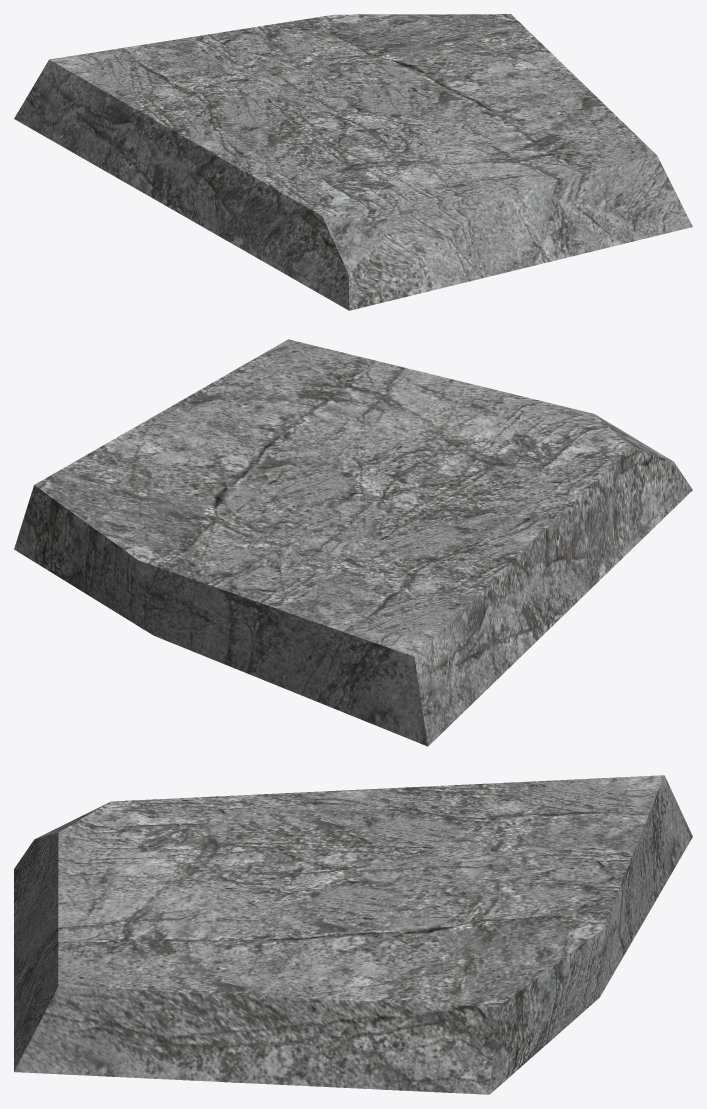
The model's file is materials_3_rubble_15.fbx.
3 views of the same model, one above another, from view 1: azimuth 30°, elevation 25°; view 2: azimuth 150°, elevation 25°; view 3: azimuth 270°, elevation 25° (orthographic). The views are drawn at different scales.
Visible parts, largest first — view 1: materials_3_rubble_15; view 2: materials_3_rubble_15; view 3: materials_3_rubble_15.
Part boxes in pixels (x1=…): materials_3_rubble_15: x1=14, y1=14, x2=692, y2=310; materials_3_rubble_15: x1=14, y1=339, x2=692, y2=746; materials_3_rubble_15: x1=14, y1=775, x2=692, y2=1094.
Bounding box in the file's own units: 85.56 × 11.65 × 95.15.
